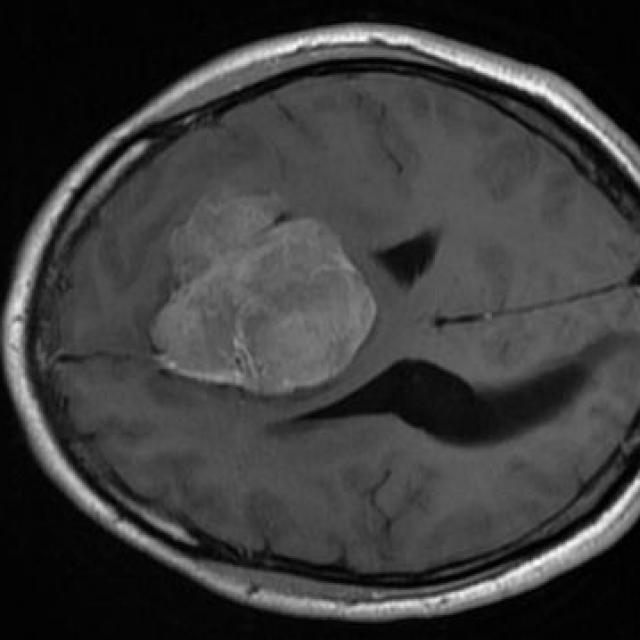meningioma: (150, 193, 378, 396)
